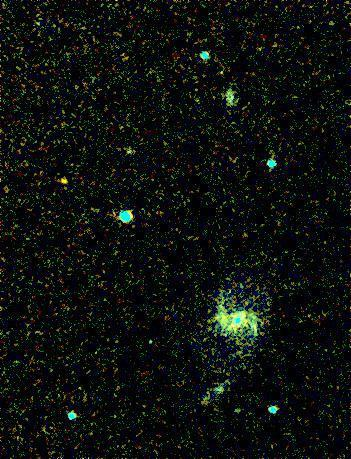star: (49, 166, 79, 196)
